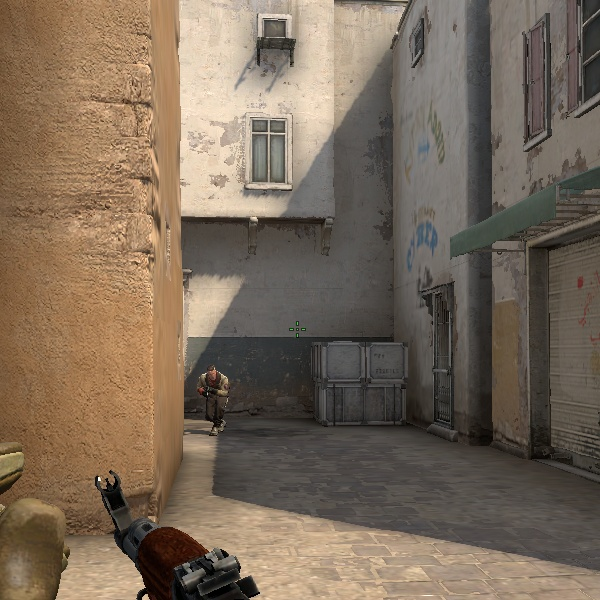t_body: (198, 365, 230, 434)
t_head: (207, 365, 217, 381)
